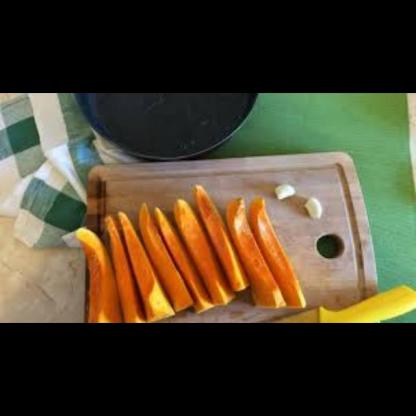garlic: (300, 194, 323, 222), (271, 180, 298, 202)
pumpkin: (174, 180, 252, 303), (228, 194, 308, 312), (138, 198, 216, 315), (101, 210, 169, 321), (69, 224, 123, 322)
